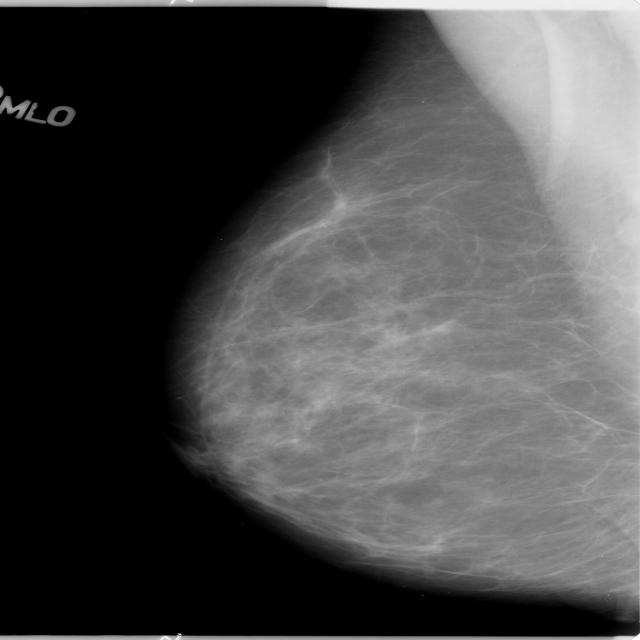normal: (160, 20, 640, 599)
